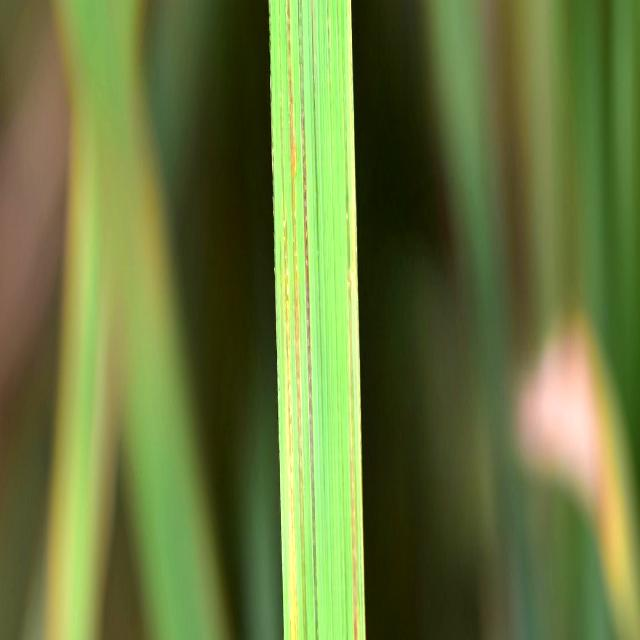BLS: (285, 0, 308, 640), (279, 0, 298, 640), (299, 0, 318, 640), (347, 0, 365, 620), (344, 132, 358, 640), (311, 0, 323, 452), (327, 0, 330, 103), (345, 558, 348, 640), (337, 0, 338, 49), (359, 622, 361, 640)
